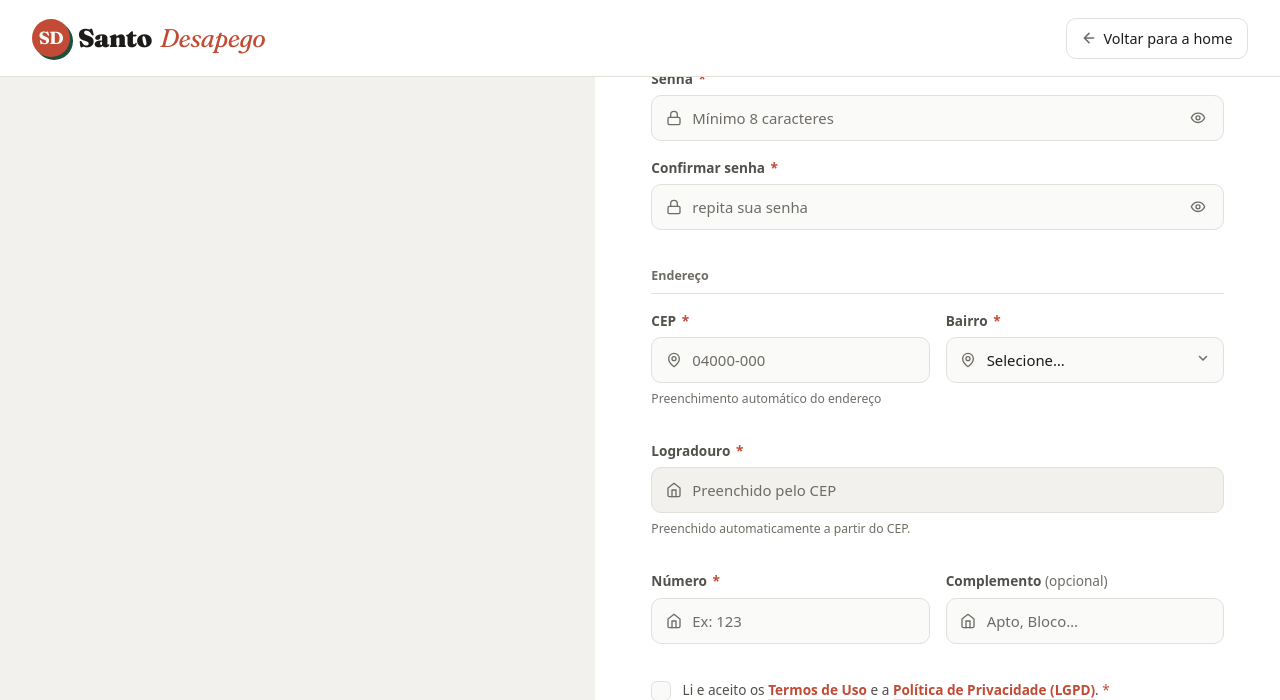
Test: RF01 - Gestão de Perfil Geográfico › trocar o CEP troca o logradouro junto
(page scrolled)
Step 1. Type "04710150" into the field with placeholder "04000-000" → [790, 360], box 651,337 -> 930,383
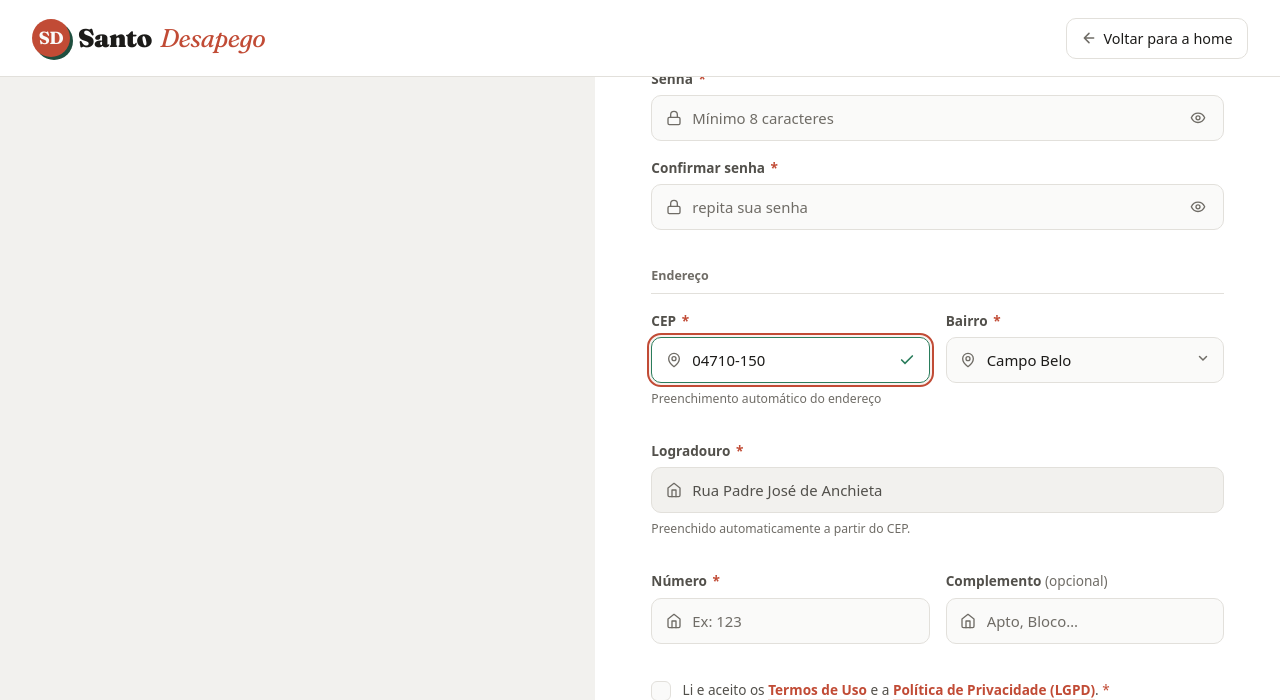
expect the field labelled "Logradouro *" holds "Rua Padre José de Anchieta": met, box 651,467 -> 1224,513
Step 2. Clear the field with placeholder "04000-000" → [790, 360], box 651,337 -> 930,383
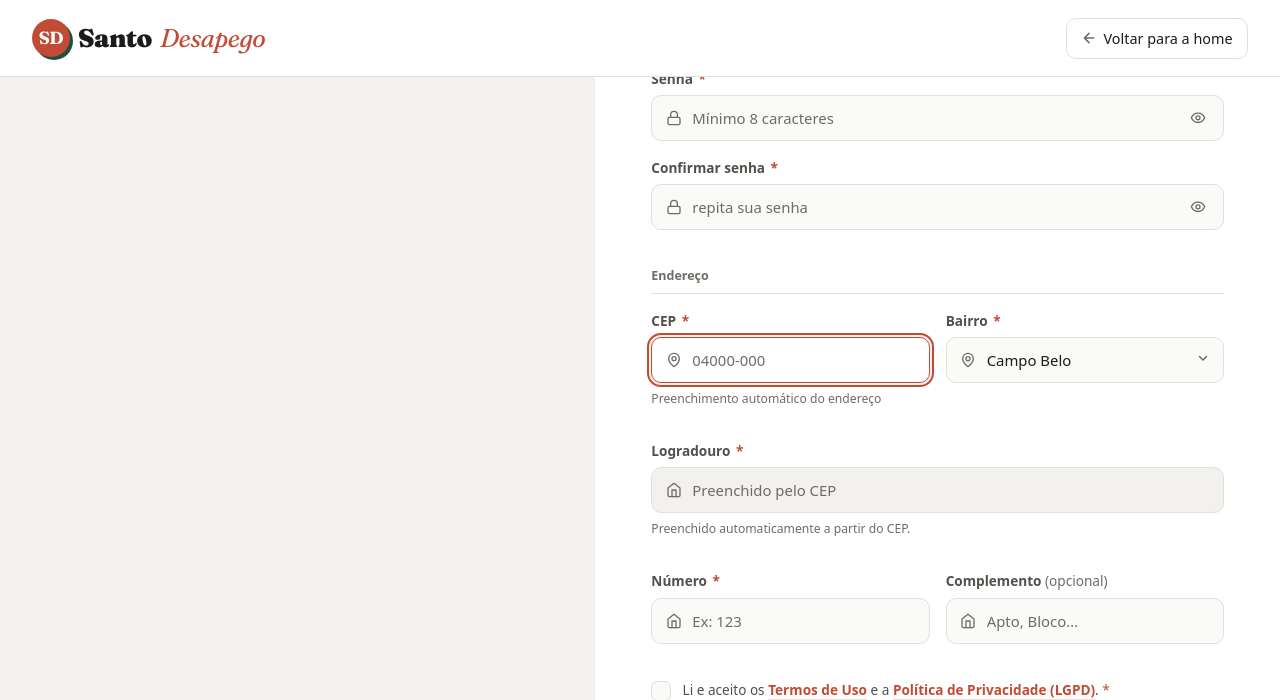
expect the field labelled "Logradouro *" is empty: met, box 651,467 -> 1224,513
Step 3. Type "04506000" into the field with placeholder "04000-000" → [790, 360], box 651,337 -> 930,383
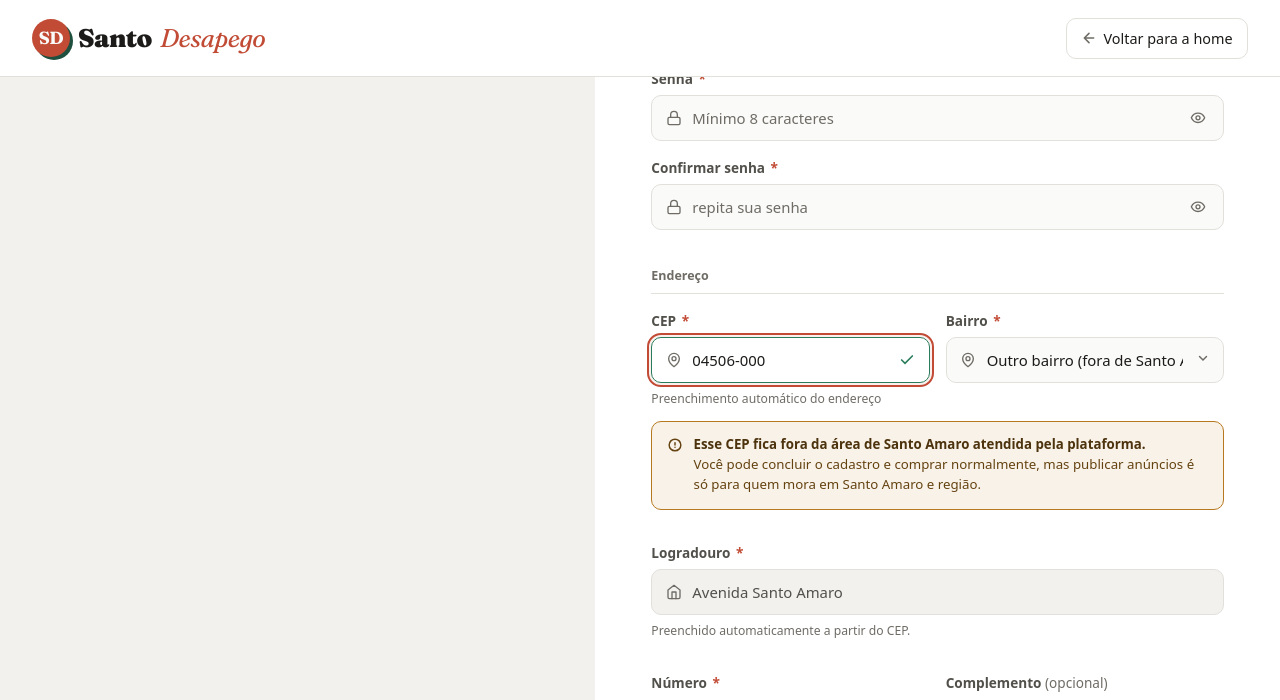
expect the field labelled "Logradouro *" holds "Avenida Santo Amaro": met, box 651,569 -> 1224,615
